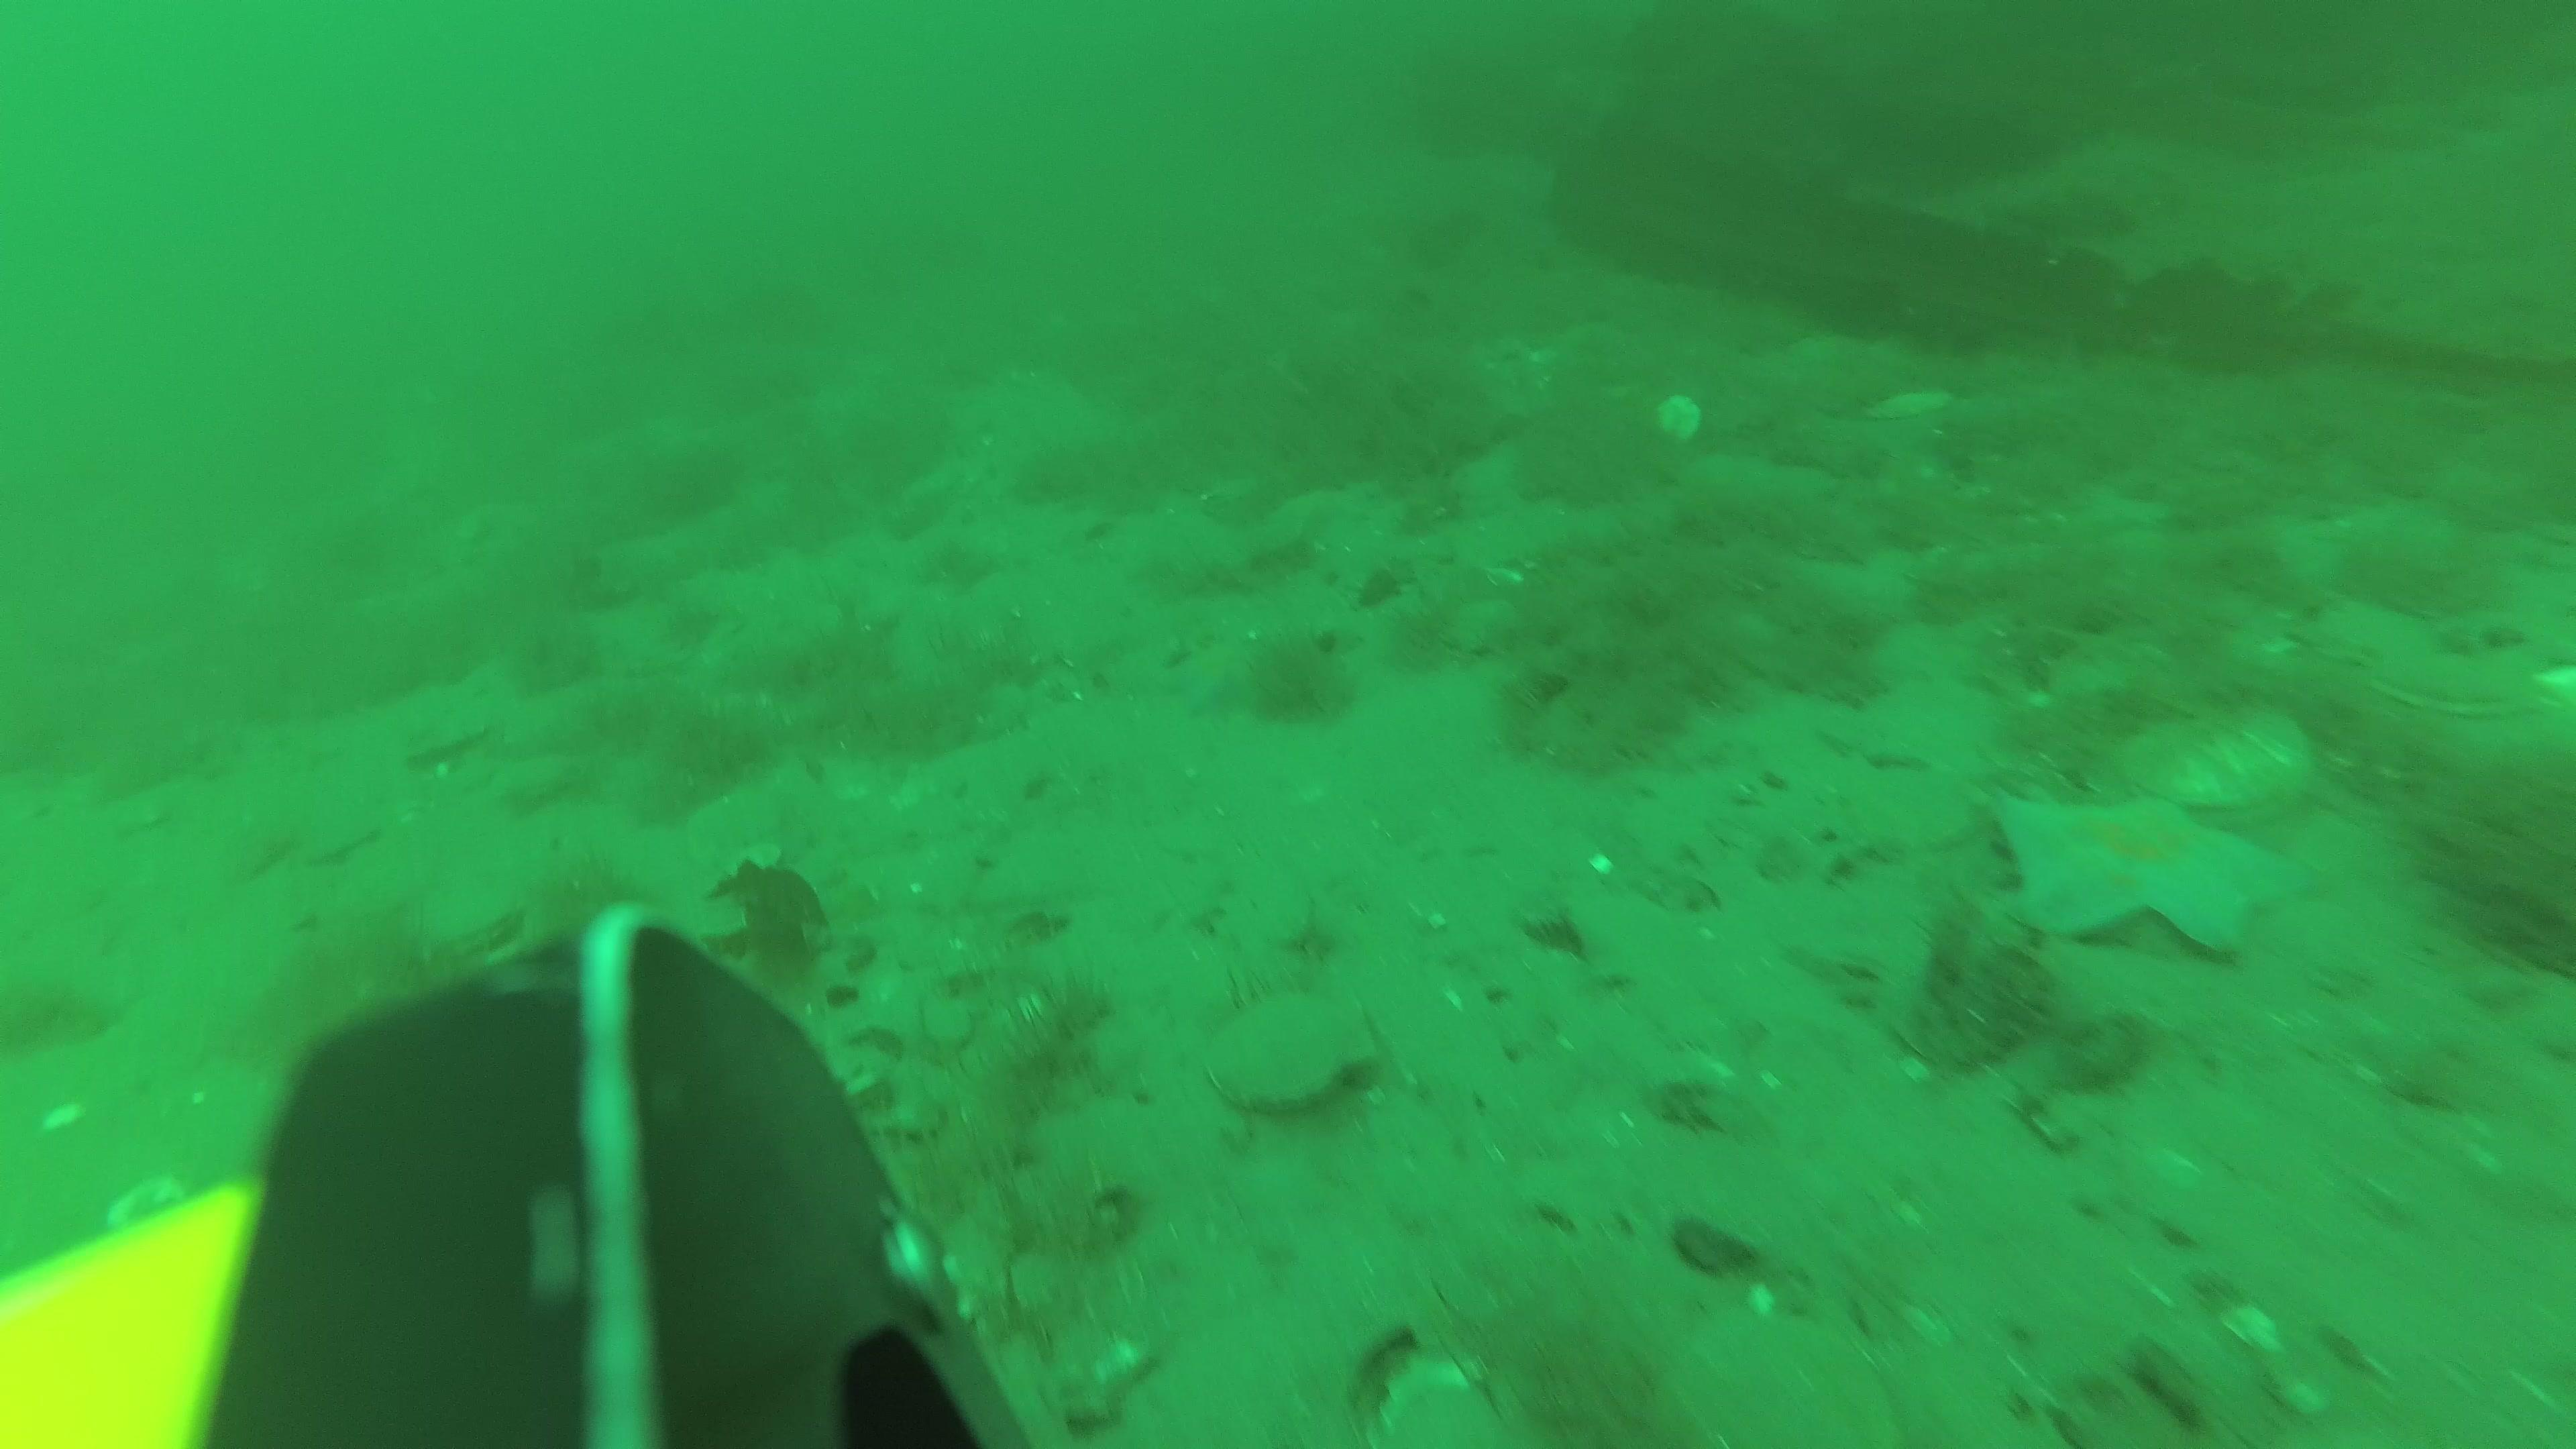scallop: (2107, 708, 2318, 814), (1208, 998, 1382, 1111), (2350, 621, 2528, 709), (1440, 594, 1527, 655), (1649, 386, 1702, 448), (1858, 386, 1955, 419)
starfish: (1987, 782, 2296, 950), (1182, 653, 1283, 722)
